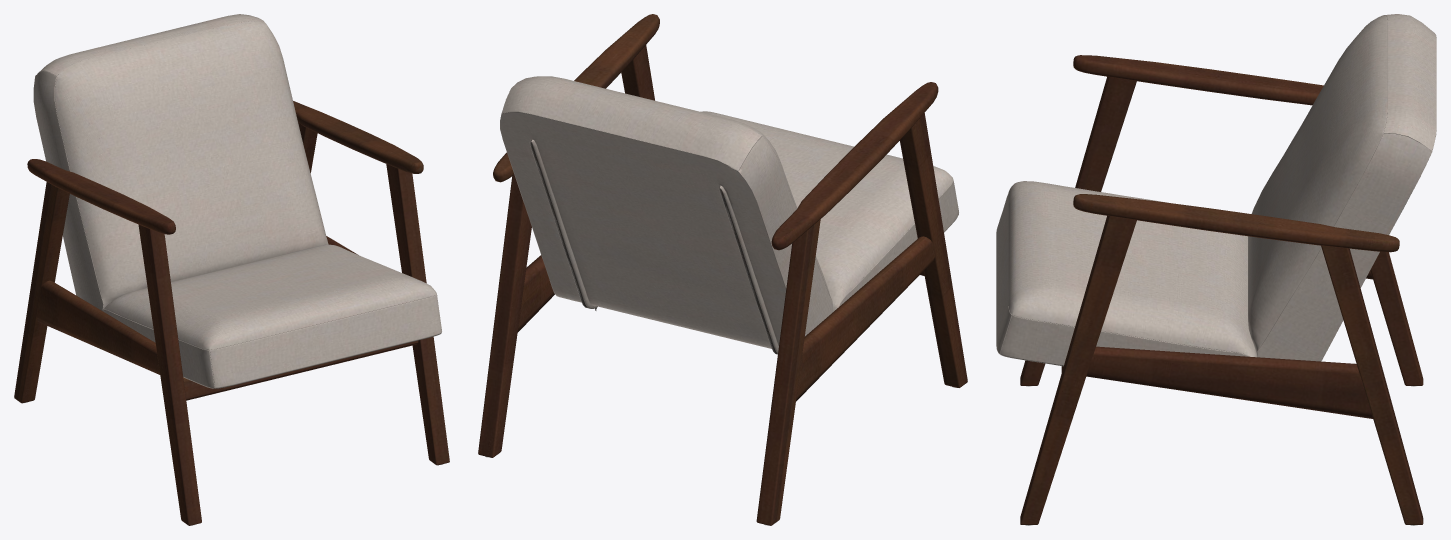
The model's file is armchair-15.glb.
3 renders of one model, left to right at view 1: azimuth 30°, elevation 25°; view 2: azimuth 150°, elevation 25°; view 3: azimuth 270°, elevation 25°, orthographic. The views are drawn at different scales.
Parts seen in each view (by area): view 1: Mesh_0; view 2: Mesh_0; view 3: Mesh_0.
Part boxes in pixels (x1,y1,x2,y2): Mesh_0: (14, 14, 449, 525); Mesh_0: (478, 14, 967, 525); Mesh_0: (996, 14, 1436, 525).
Size of the model in its own units: 0.6402 by 0.7602 by 0.78.
1 material, 1 textured.
